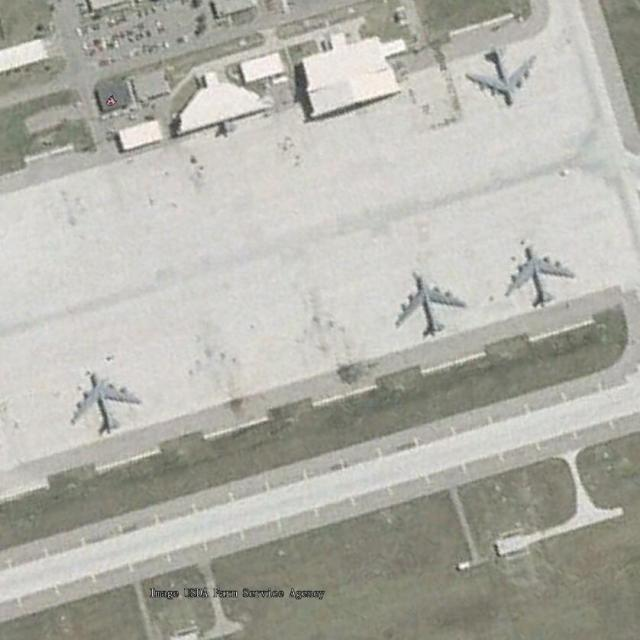fighter jet: (69, 361, 133, 439), (500, 243, 572, 309), (398, 272, 463, 337), (471, 36, 530, 104)
